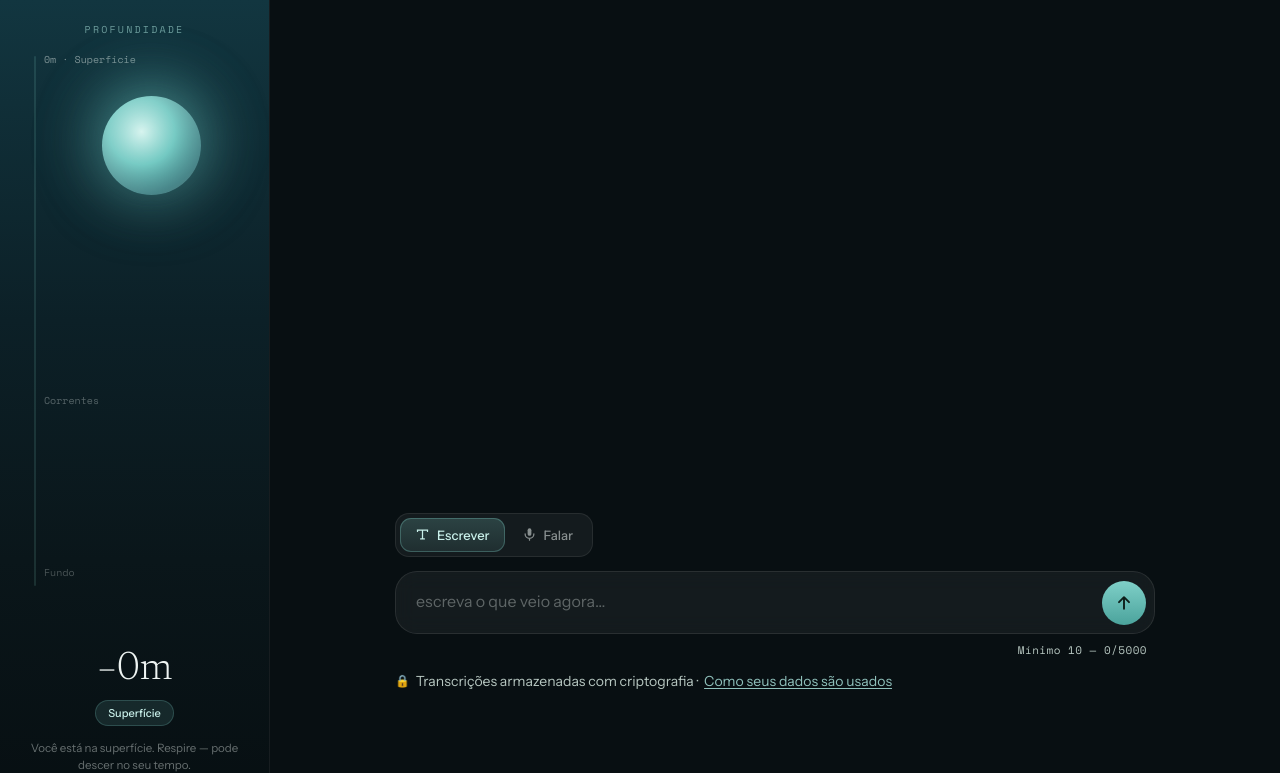
Test: ChatWindow › mostra 'Encerrar sessão' após uma troca completa e exibe a síntese na hora ao clicar (encerramento manual)
In the text box named "Sua mensagem": (753, 602) [416, 580, 1090, 625], type "Uma mensagem válida de teste."
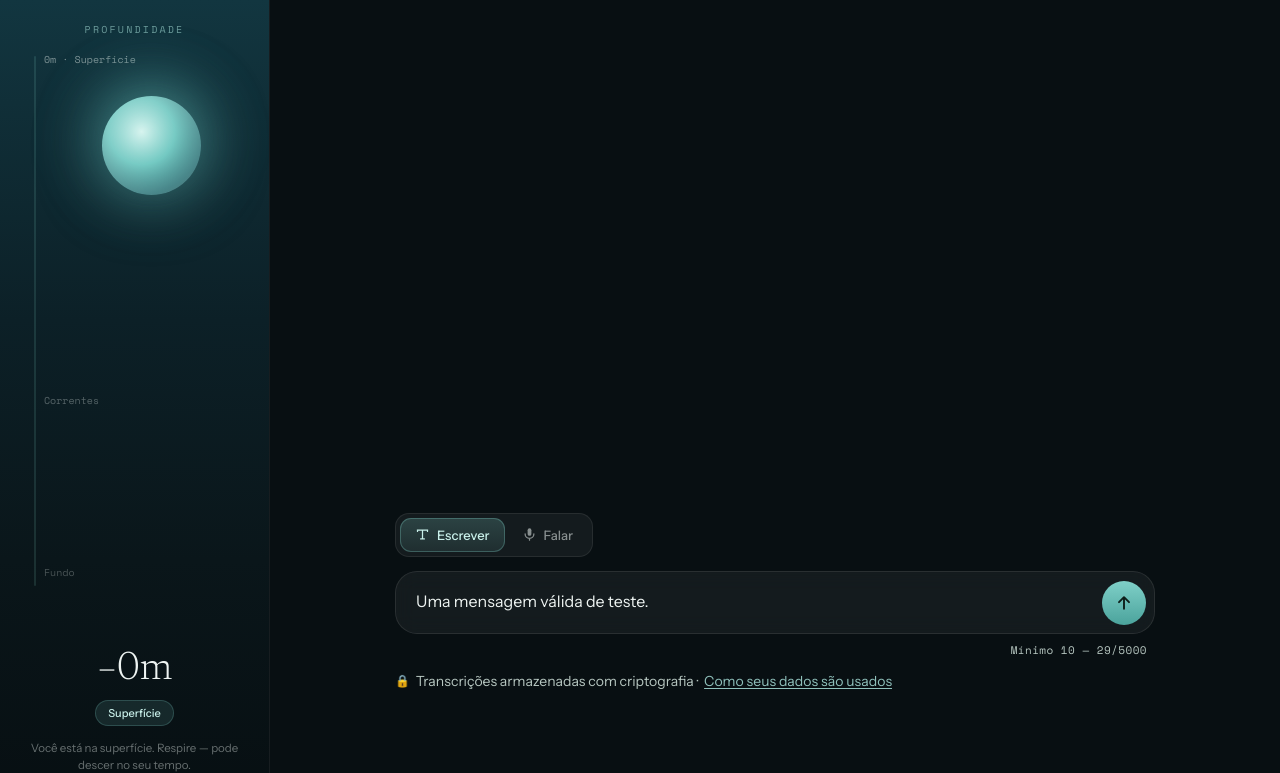
Click the button named "Enviar": (1124, 603) [1102, 581, 1146, 625]
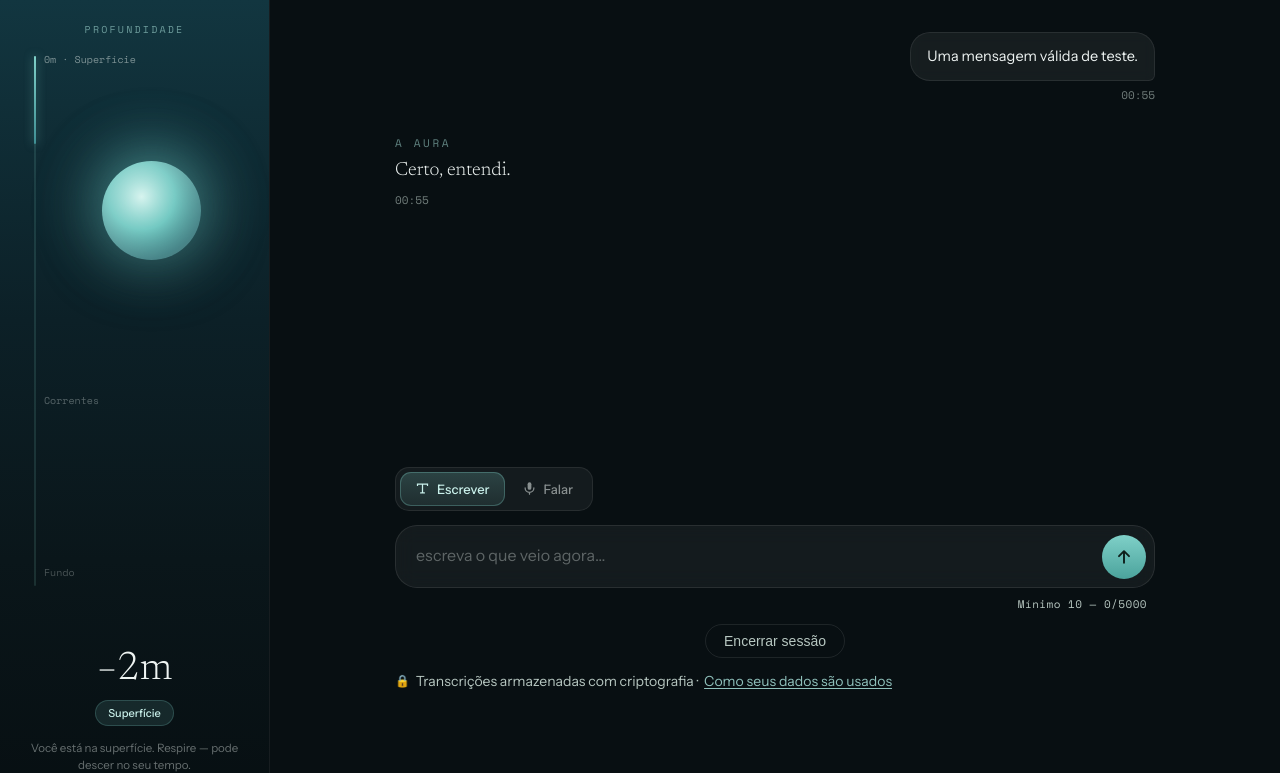
Expected: the text "Certo, entendi." is shown, [395, 161, 510, 180]
Click the button "Encerrar sessão": (775, 641) [705, 624, 844, 658]
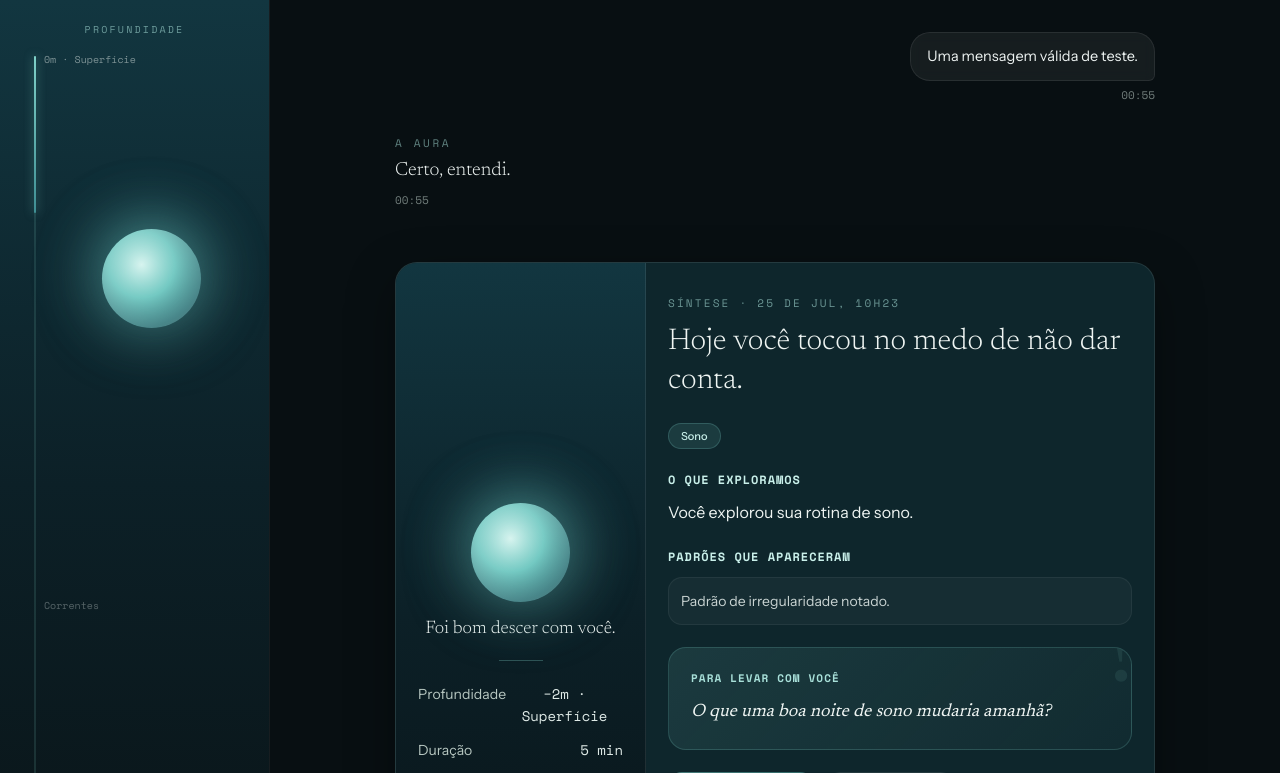
Expected: the field labelled "Sua mensagem" is not shown
Expected: the heading "Hoje você tocou no medo de não dar conta." is shown, [668, 323, 1132, 401]
